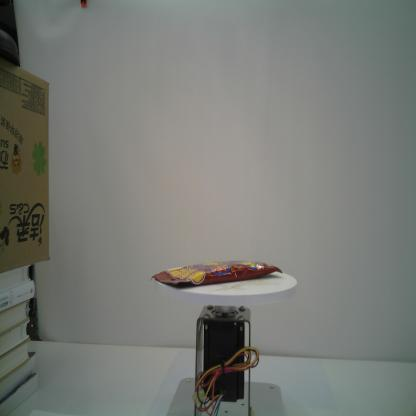Candy: (148, 258, 288, 288)
